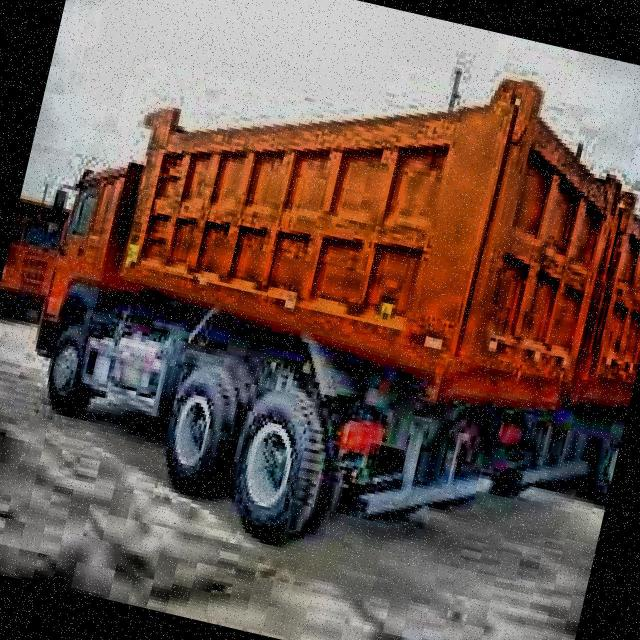dump_truck: (2, 0, 640, 604)
